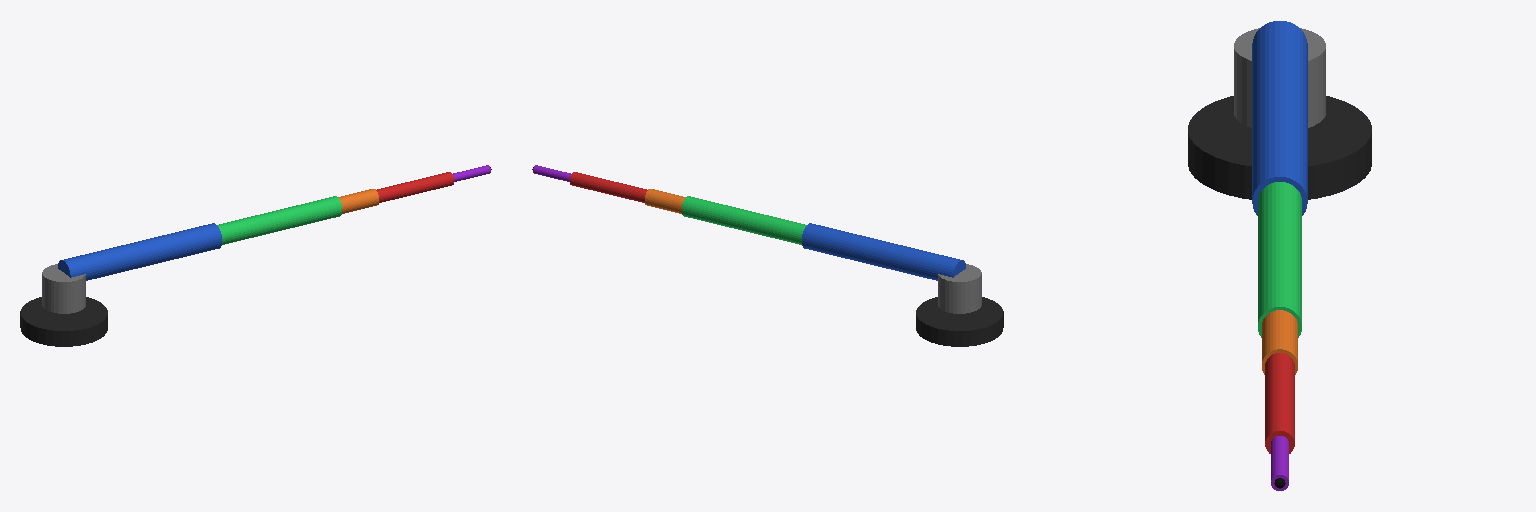
robot.urdf — koch_v11_writing_arm:
<?xml version="1.0"?>
<!-- Koch v1.1 Hybrid Writing Arm - 6-DOF -->
<!-- Based on working 4-DOF pattern, extended to 6 joints -->
<robot name="koch_v11_writing_arm">

  <!-- Base Link -->
  <link name="base_link">
    <visual>
      <geometry>
        <cylinder radius="0.05" length="0.02"/>
      </geometry>
      <material name="black">
        <color rgba="0.2 0.2 0.2 1"/>
      </material>
    </visual>
    <collision>
      <geometry>
        <cylinder radius="0.05" length="0.02"/>
      </geometry>
    </collision>
    <inertial>
      <mass value="0.5"/>
      <inertia ixx="0.001" ixy="0.0" ixz="0.0" iyy="0.001" iyz="0.0" izz="0.001"/>
    </inertial>
  </link>

  <!-- Joint 1: Shoulder Pan (Base Rotation) - XL430 -->
  <joint name="shoulder_pan" type="revolute">
    <parent link="base_link"/>
    <child link="shoulder_link"/>
    <origin xyz="0 0 0.02" rpy="0 0 0"/>
    <axis xyz="0 0 1"/>
    <limit lower="-3.14159" upper="3.14159" effort="2.0" velocity="3.14"/>
  </joint>

  <link name="shoulder_link">
    <visual>
      <origin xyz="0 0 0.02" rpy="0 0 0"/>
      <geometry>
        <cylinder radius="0.025" length="0.04"/>
      </geometry>
      <material name="grey">
        <color rgba="0.5 0.5 0.5 1"/>
      </material>
    </visual>
    <inertial>
      <mass value="0.3"/>
      <inertia ixx="0.001" ixy="0.0" ixz="0.0" iyy="0.001" iyz="0.0" izz="0.001"/>
    </inertial>
  </link>

  <!-- Joint 2: Shoulder Lift (Vertical) - XL430 -->
  <joint name="shoulder_lift" type="revolute">
    <parent link="shoulder_link"/>
    <child link="upper_arm_link"/>
    <origin xyz="0 0 0.04" rpy="0 0 0"/>
    <axis xyz="0 1 0"/>
    <limit lower="-2.0" upper="2.0" effort="2.0" velocity="3.14"/>
  </joint>

  <link name="upper_arm_link">
    <visual>
      <origin xyz="0.10 0 0" rpy="0 1.5708 0"/>
      <geometry>
        <cylinder radius="0.015" length="0.20"/>
      </geometry>
      <material name="blue">
        <color rgba="0.2 0.4 0.8 1"/>
      </material>
    </visual>
    <inertial>
      <mass value="0.2"/>
      <inertia ixx="0.001" ixy="0.0" ixz="0.0" iyy="0.001" iyz="0.0" izz="0.001"/>
    </inertial>
  </link>

  <!-- Joint 3: Elbow Flex - XL330 -->
  <joint name="elbow_flex" type="revolute">
    <parent link="upper_arm_link"/>
    <child link="forearm_link"/>
    <origin xyz="0.20 0 0" rpy="0 0 0"/>
    <axis xyz="0 1 0"/>
    <limit lower="-2.5" upper="2.5" effort="1.5" velocity="3.14"/>
  </joint>

  <link name="forearm_link">
    <visual>
      <origin xyz="0.08 0 0" rpy="0 1.5708 0"/>
      <geometry>
        <cylinder radius="0.012" length="0.16"/>
      </geometry>
      <material name="green">
        <color rgba="0.2 0.8 0.4 1"/>
      </material>
    </visual>
    <inertial>
      <mass value="0.15"/>
      <inertia ixx="0.0005" ixy="0.0" ixz="0.0" iyy="0.0005" iyz="0.0" izz="0.0005"/>
    </inertial>
  </link>

  <!-- Joint 4: Wrist Flex - XL330 -->
  <joint name="wrist_flex" type="revolute">
    <parent link="forearm_link"/>
    <child link="wrist_link"/>
    <origin xyz="0.16 0 0" rpy="0 0 0"/>
    <axis xyz="0 1 0"/>
    <limit lower="-2.0" upper="2.0" effort="1.5" velocity="3.14"/>
  </joint>

  <link name="wrist_link">
    <visual>
      <origin xyz="0.025 0 0" rpy="0 1.5708 0"/>
      <geometry>
        <cylinder radius="0.01" length="0.05"/>
      </geometry>
      <material name="orange">
        <color rgba="0.9 0.5 0.2 1"/>
      </material>
    </visual>
    <inertial>
      <mass value="0.1"/>
      <inertia ixx="0.0002" ixy="0.0" ixz="0.0" iyy="0.0002" iyz="0.0" izz="0.0002"/>
    </inertial>
  </link>

  <!-- Joint 5: Wrist Roll - XL330 -->
  <joint name="wrist_roll" type="revolute">
    <parent link="wrist_link"/>
    <child link="hand_link"/>
    <origin xyz="0.05 0 0" rpy="0 0 0"/>
    <axis xyz="1 0 0"/>
    <limit lower="-3.14159" upper="3.14159" effort="1.0" velocity="3.14"/>
  </joint>

  <link name="hand_link">
    <visual>
      <origin xyz="0.05 0 0" rpy="0 1.5708 0"/>
      <geometry>
        <cylinder radius="0.008" length="0.10"/>
      </geometry>
      <material name="red">
        <color rgba="0.8 0.2 0.2 1"/>
      </material>
    </visual>
    <inertial>
      <mass value="0.08"/>
      <inertia ixx="0.0001" ixy="0.0" ixz="0.0" iyy="0.0001" iyz="0.0" izz="0.0001"/>
    </inertial>
  </link>

  <!-- Joint 6: Pen Holder (Gripper) - XL330 -->
  <joint name="pen_holder" type="revolute">
    <parent link="hand_link"/>
    <child link="pen_link"/>
    <origin xyz="0.10 0 0" rpy="0 0 0"/>
    <axis xyz="0 1 0"/>
    <limit lower="-0.5" upper="0.5" effort="0.5" velocity="1.57"/>
  </joint>

  <link name="pen_link">
    <visual>
      <origin xyz="0.025 0 0" rpy="0 1.5708 0"/>
      <geometry>
        <cylinder radius="0.005" length="0.05"/>
      </geometry>
      <material name="purple">
        <color rgba="0.6 0.2 0.8 1"/>
      </material>
    </visual>
    <inertial>
      <mass value="0.02"/>
      <inertia ixx="0.00001" ixy="0.0" ixz="0.0" iyy="0.00001" iyz="0.0" izz="0.00001"/>
    </inertial>
  </link>

  <!-- Pen Tip (Fixed) -->
  <joint name="pen_tip_joint" type="fixed">
    <parent link="pen_link"/>
    <child link="pen_tip"/>
    <origin xyz="0.05 0 0" rpy="0 0 0"/>
  </joint>

  <link name="pen_tip">
    <visual>
      <geometry>
        <sphere radius="0.003"/>
      </geometry>
      <material name="black">
        <color rgba="0.1 0.1 0.1 1"/>
      </material>
    </visual>
  </link>

  <!-- ROS2 Control - Following working 4-DOF pattern -->
  <ros2_control name="koch_v11_system" type="system">
    
    <!-- For simulation, use mock hardware -->
    <hardware>
      <plugin>mock_components/GenericSystem</plugin>
    </hardware>
    
    <!-- Joint 1: shoulder_pan -->
    <joint name="shoulder_pan">
      <command_interface name="position">
        <param name="min">-3.14159</param>
        <param name="max">3.14159</param>
      </command_interface>
      <state_interface name="position">
        <param name="initial_value">0.0</param>
      </state_interface>
      <state_interface name="position"/>
      <state_interface name="velocity"/>
    </joint>
    
    <!-- Joint 2: shoulder_lift -->
    <joint name="shoulder_lift">
      <command_interface name="position">
        <param name="min">-2.0</param>
        <param name="max">2.0</param>
      </command_interface>
      <state_interface name="position">
        <param name="initial_value">0.0</param>
      </state_interface>
      <state_interface name="position"/>
      <state_interface name="velocity"/>
    </joint>
    
    <!-- Joint 3: elbow_flex -->
    <joint name="elbow_flex">
      <command_interface name="position">
        <param name="min">-2.5</param>
        <param name="max">2.5</param>
      </command_interface>
      <state_interface name="position">
        <param name="initial_value">-1.57</param>
      </state_interface>
      <state_interface name="position"/>
      <state_interface name="velocity"/>
    </joint>
    
    <!-- Joint 4: wrist_flex -->
    <joint name="wrist_flex">
      <command_interface name="position">
        <param name="min">-2.0</param>
        <param name="max">2.0</param>
      </command_interface>
      <state_interface name="position">
        <param name="initial_value">1.57</param>
      </state_interface>
      <state_interface name="position"/>
      <state_interface name="velocity"/>
    </joint>
    
    <!-- Joint 5: wrist_roll -->
    <joint name="wrist_roll">
      <command_interface name="position">
        <param name="min">-3.14159</param>
        <param name="max">3.14159</param>
      </command_interface>
      <state_interface name="position">
        <param name="initial_value">0.0</param>
      </state_interface>
      <state_interface name="position"/>
      <state_interface name="velocity"/>
    </joint>
    
    <!-- Joint 6: pen_holder -->
    <joint name="pen_holder">
      <command_interface name="position">
        <param name="min">-0.5</param>
        <param name="max">0.5</param>
      </command_interface>
      <state_interface name="position">
        <param name="initial_value">0.0</param>
      </state_interface>
      <state_interface name="position"/>
      <state_interface name="velocity"/>
    </joint>
    
  </ros2_control>

</robot>

--- Facts derived from the render (not from the file) ---
The picture shows the robot from 3 angles, left to right: view 1: azimuth 30°, elevation 25°; view 2: azimuth 150°, elevation 25°; view 3: azimuth 270°, elevation 25°; orthographic projection.
Robot: koch_v11_writing_arm — 8 links, 7 joints (6 revolute, 1 fixed); root link base_link; default pose: all joints at 0.
Visible links, largest first — view 1: upper_arm_link, base_link, forearm_link, shoulder_link, hand_link, wrist_link; view 2: upper_arm_link, base_link, forearm_link, shoulder_link, hand_link, wrist_link; view 3: base_link, upper_arm_link, forearm_link, shoulder_link, hand_link, wrist_link, pen_link.
Boxes of the visible links, x1,y1,x2,y2 form: upper_arm_link: (58, 223, 221, 280); base_link: (20, 297, 107, 346); forearm_link: (217, 196, 341, 244); shoulder_link: (42, 264, 85, 313); hand_link: (376, 172, 453, 202); wrist_link: (338, 189, 378, 213); upper_arm_link: (802, 223, 965, 280); base_link: (916, 297, 1003, 346); forearm_link: (682, 196, 806, 244); shoulder_link: (938, 264, 981, 313); hand_link: (570, 172, 647, 202); wrist_link: (645, 189, 685, 213); base_link: (1188, 96, 1371, 199); upper_arm_link: (1252, 21, 1307, 215); forearm_link: (1258, 182, 1301, 337); shoulder_link: (1234, 28, 1325, 127); hand_link: (1265, 353, 1294, 453); wrist_link: (1262, 310, 1297, 374); pen_link: (1271, 436, 1288, 490).
Bounding box of the posed robot: 0.613 × 0.1 × 0.085 m (x, y, z).
Geometry: primitives only (box / cylinder / sphere), no mesh files.
